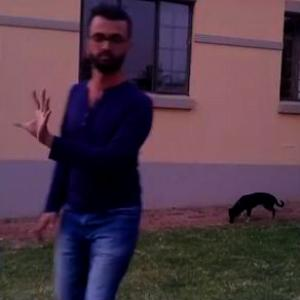follow_hand: (11, 82, 59, 141)
